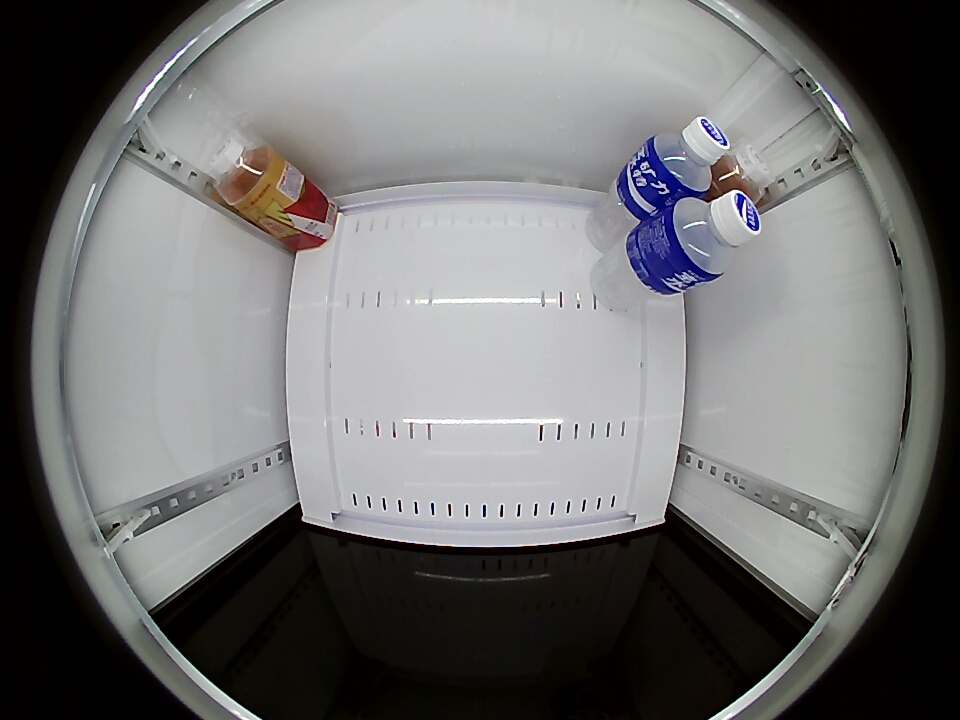baokuangli: (658, 190, 762, 285), (642, 116, 729, 199)
dongpeng-b: (204, 135, 285, 213), (712, 140, 773, 201)
